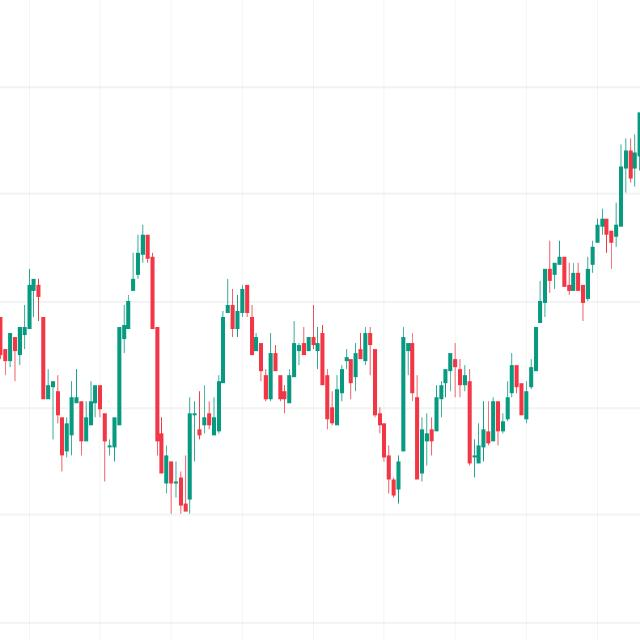Triple-Bottom: (48, 354, 130, 480)
Triple-Top: (214, 274, 384, 431)
